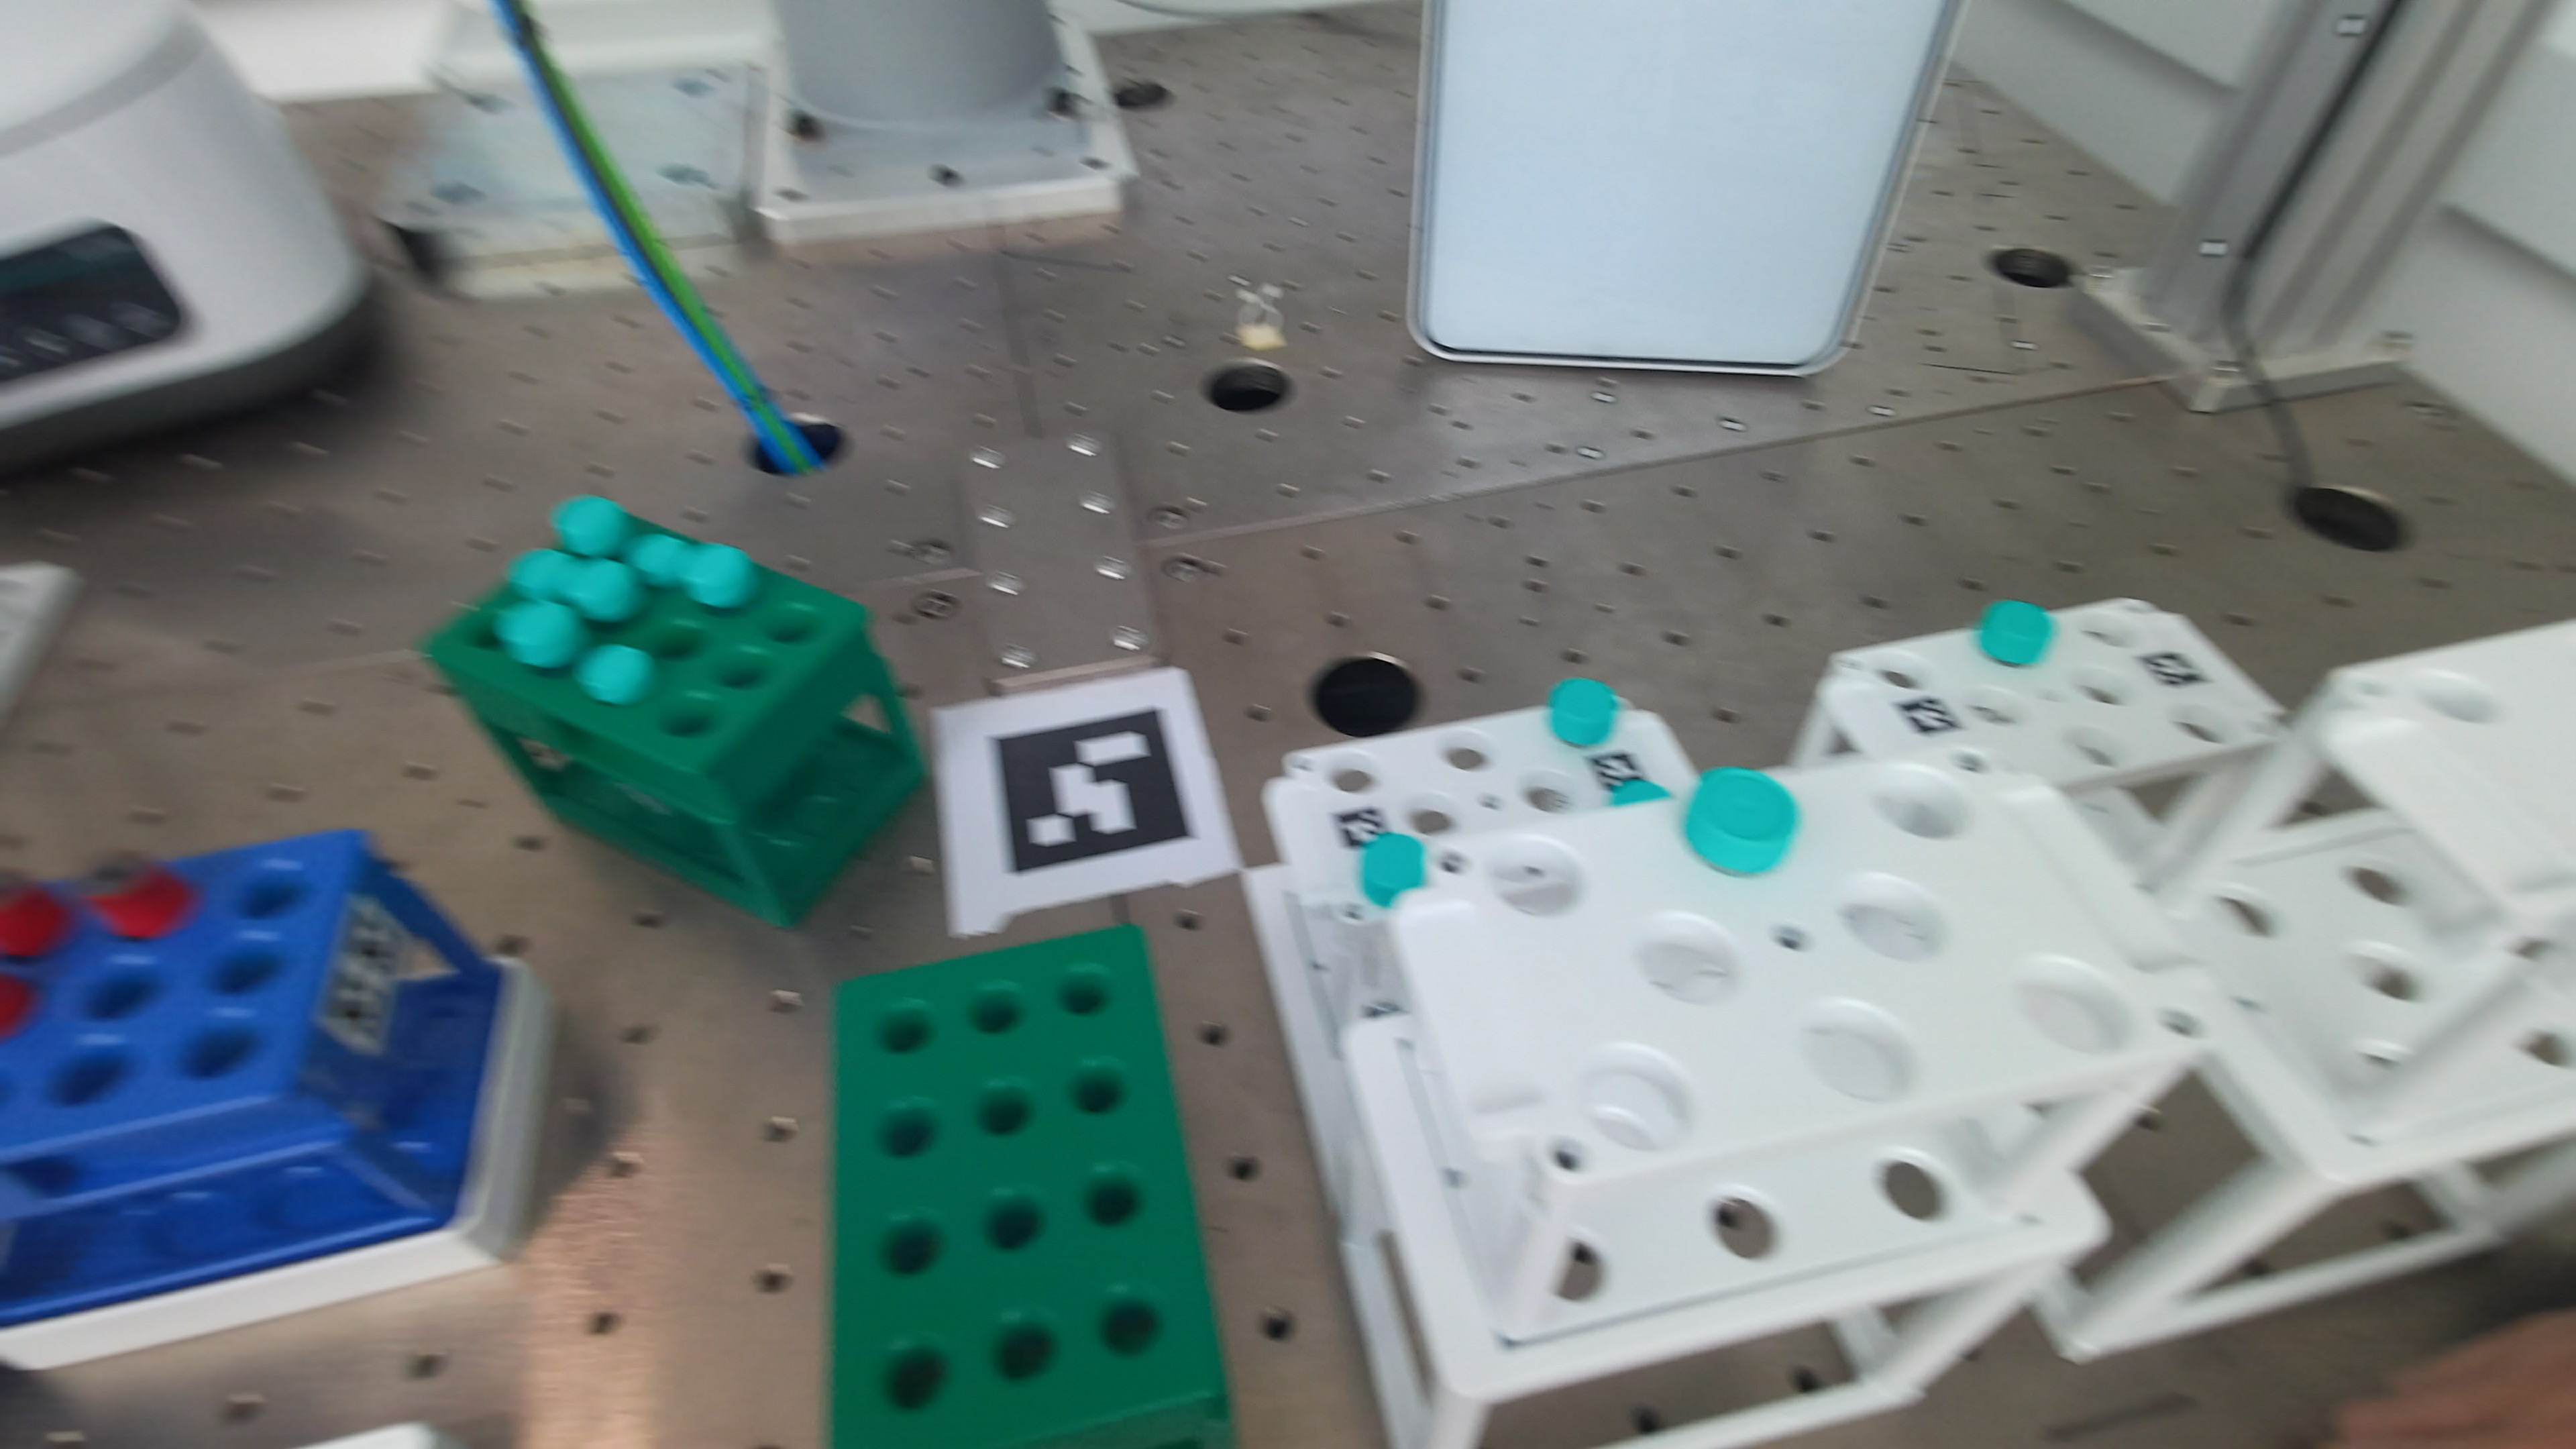10ML_centrifuge_tube: (495, 600, 589, 669), (557, 557, 644, 623), (550, 495, 637, 557), (1978, 600, 2056, 667), (679, 543, 759, 609), (1359, 832, 1426, 908), (1548, 678, 1621, 747), (1610, 777, 1668, 807)
10ML_sorting_tube_rack: (0, 830, 501, 1327)
5ML_centrifuge_tube: (1683, 768, 1799, 874), (573, 644, 655, 706), (623, 533, 694, 587), (506, 548, 575, 600)
5ML_sorting_tube_rack: (830, 925, 1231, 1445), (425, 571, 924, 925)
blood_tube: (81, 856, 196, 939), (0, 874, 71, 957), (0, 971, 37, 1039)
centrifuge_close: (0, 0, 370, 469)
dispensing_tube_rack: (1246, 600, 2576, 1445)
refrigerator_close: (1408, 0, 1959, 375)
sorting_tube_rack_base: (0, 959, 554, 1369)
